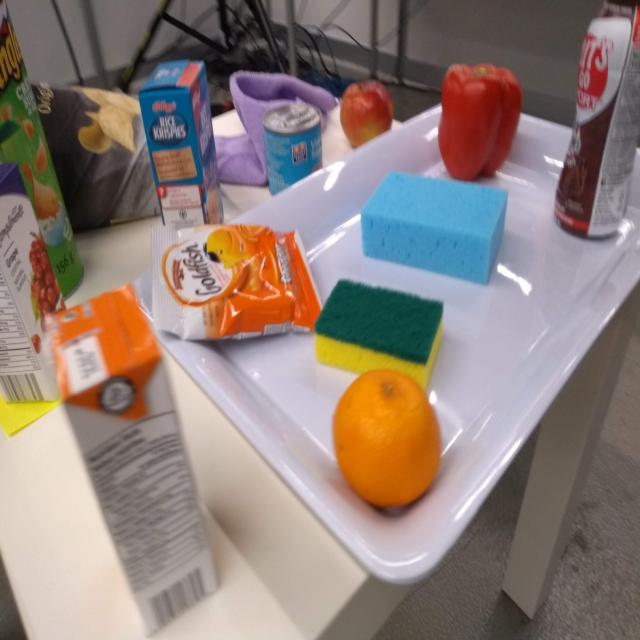apple: (339, 78, 396, 155)
cereal: (138, 57, 227, 233)
crackers: (148, 223, 325, 343)
orange: (329, 361, 443, 512)
orange_juice: (51, 279, 225, 640)
paprika: (433, 59, 524, 183)
sausages: (262, 102, 323, 184)
scrubby: (313, 273, 448, 384)
sponge_opl: (359, 168, 512, 289)
